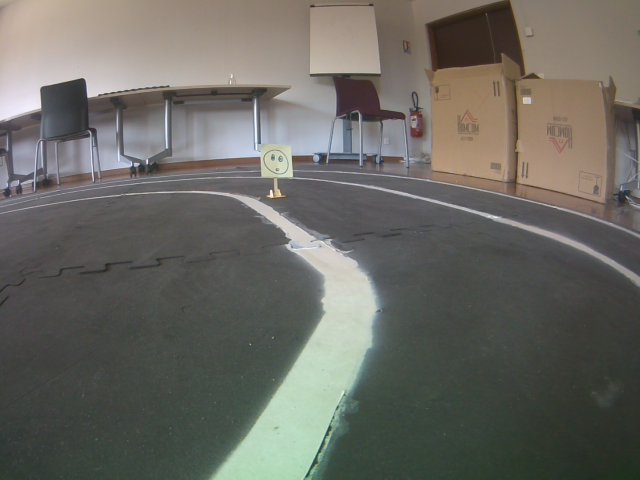Smiley: (260, 143, 295, 178)
